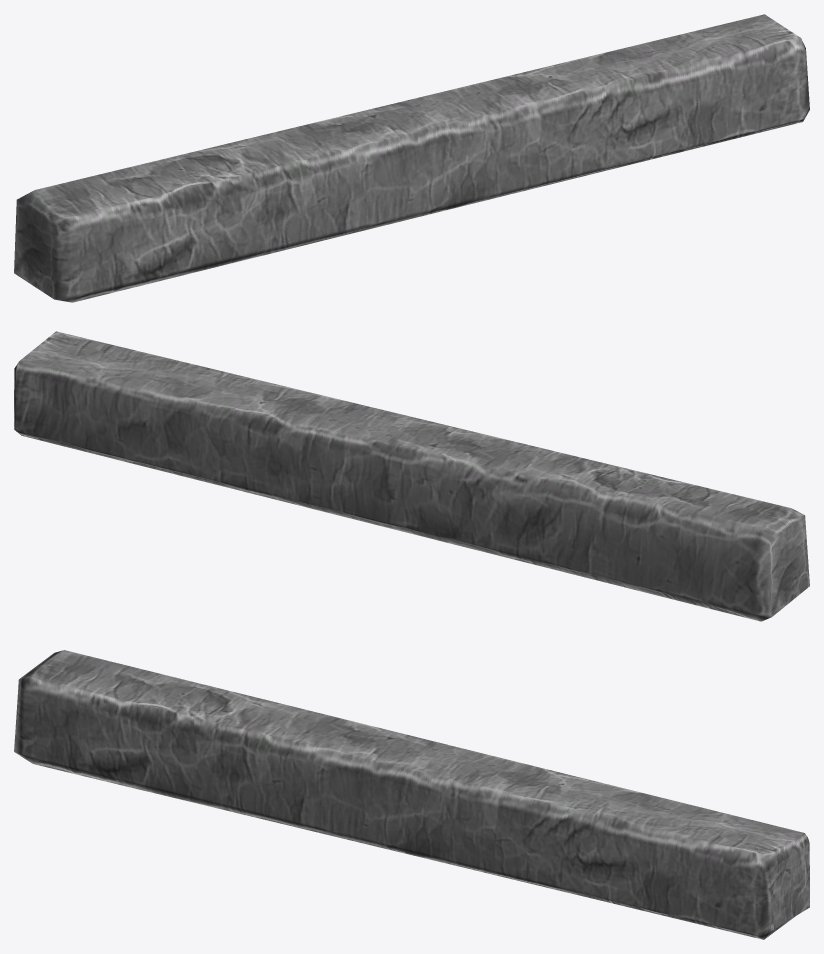
The model's file is StoneBrick.obj.
3 views of the same model, one above another, from view 1: azimuth 30°, elevation 25°; view 2: azimuth 150°, elevation 25°; view 3: azimuth 330°, elevation 25° (orthographic).
Parts seen in each view (by area): view 1: StoneBrickLong___triangulated:pCube1; view 2: StoneBrickLong___triangulated:pCube1; view 3: StoneBrickLong___triangulated:pCube1.
Part boxes in pixels (left/top/right/bottom): StoneBrickLong___triangulated:pCube1: left=14, top=14, right=809, bottom=302; StoneBrickLong___triangulated:pCube1: left=14, top=331, right=809, bottom=621; StoneBrickLong___triangulated:pCube1: left=14, top=650, right=809, bottom=939.
Size of the model in its own units: 14.97 by 1.74 by 1.62.
